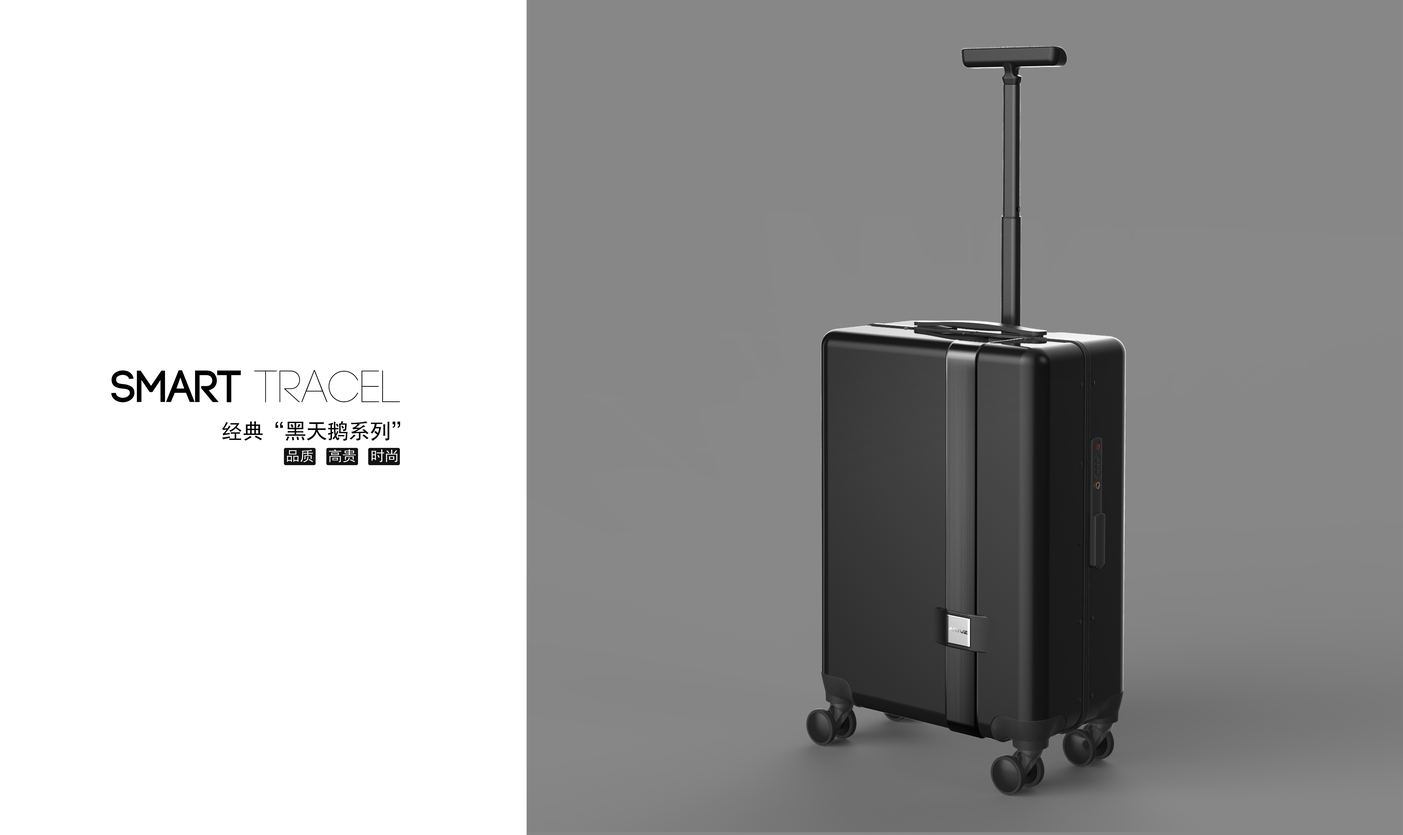box: (821, 320, 1125, 750)
handle: (914, 320, 1048, 342)
lock: (1089, 436, 1103, 500)
wheel: (990, 750, 1044, 796), (1063, 723, 1115, 767), (806, 706, 857, 747)
